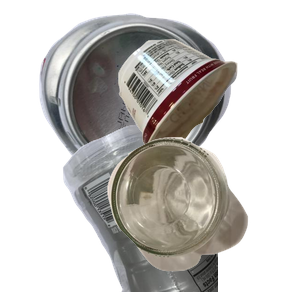glass: (105, 135, 300, 300)
metal: (37, 11, 261, 180)
plastic: (60, 120, 300, 300)
trash: (116, 36, 300, 187)
